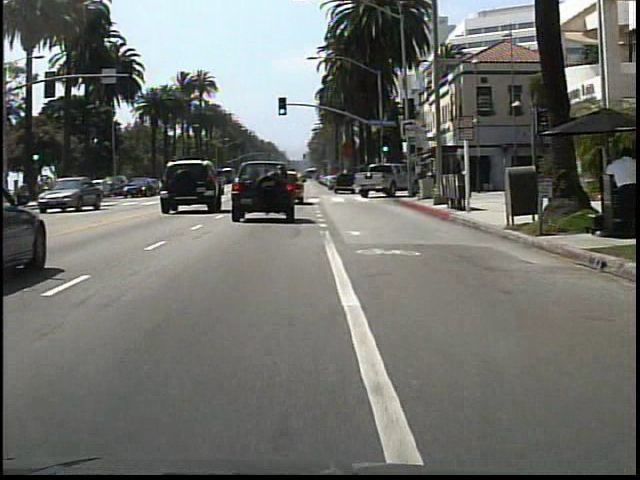person: (606, 148, 640, 235)
